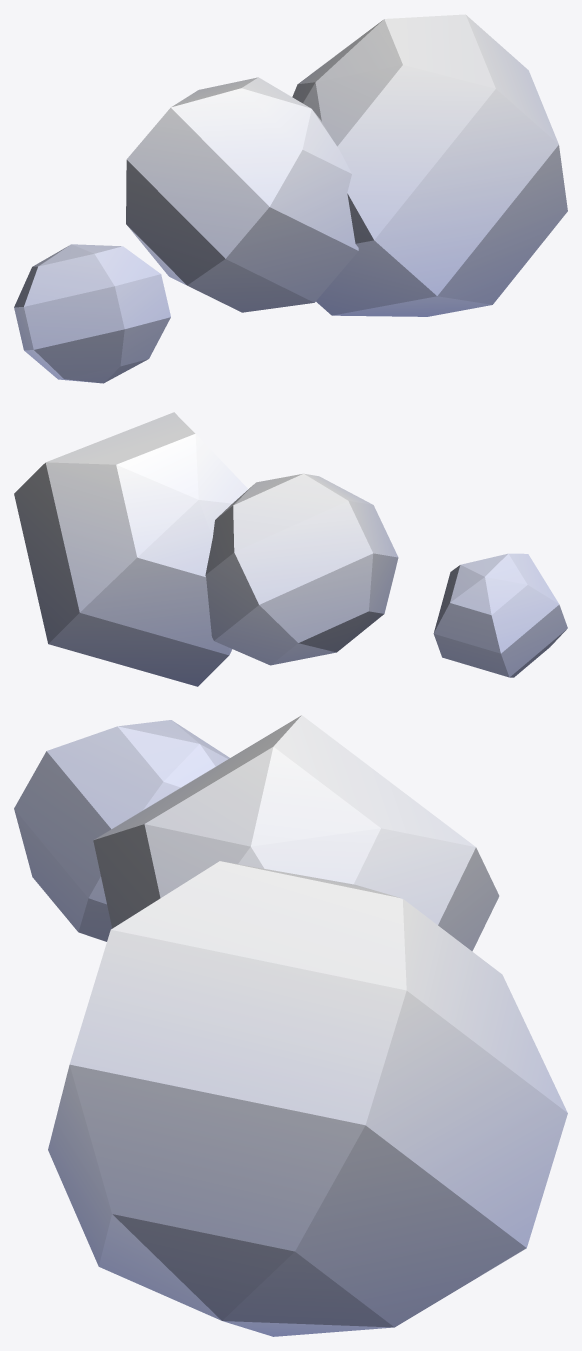
File: nube_grupo.fbx
3 views of the same model, one above another, from view 1: azimuth 30°, elevation 25°; view 2: azimuth 150°, elevation 25°; view 3: azimuth 270°, elevation 25° (orthographic). The views are drawn at different scales.
Parts seen in each view (by area): view 1: nube 2; view 2: nube 2; view 3: nube 2.
Boxes of the visible parts, x1,y1,x2,y2 form: nube 2: (14, 14, 567, 383); nube 2: (14, 412, 567, 686); nube 2: (14, 715, 567, 1336).
Size of the model in its own units: 960 by 436 by 494.
